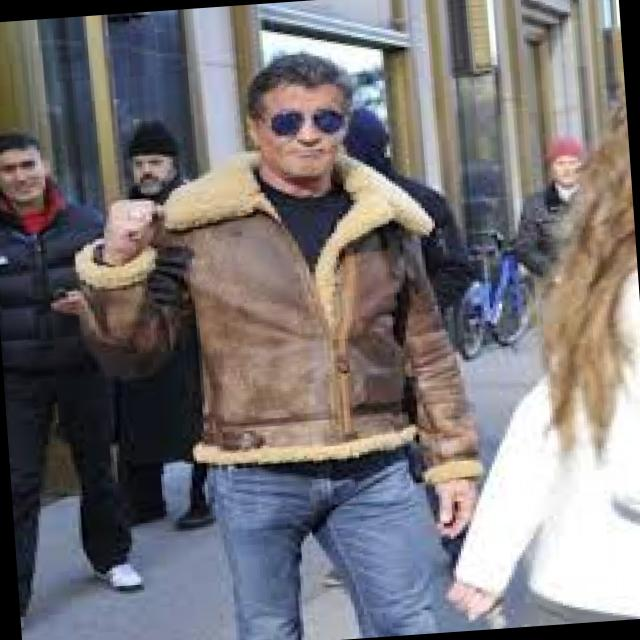Jacket: (112, 143, 469, 515), (0, 183, 130, 404), (504, 184, 600, 292)
